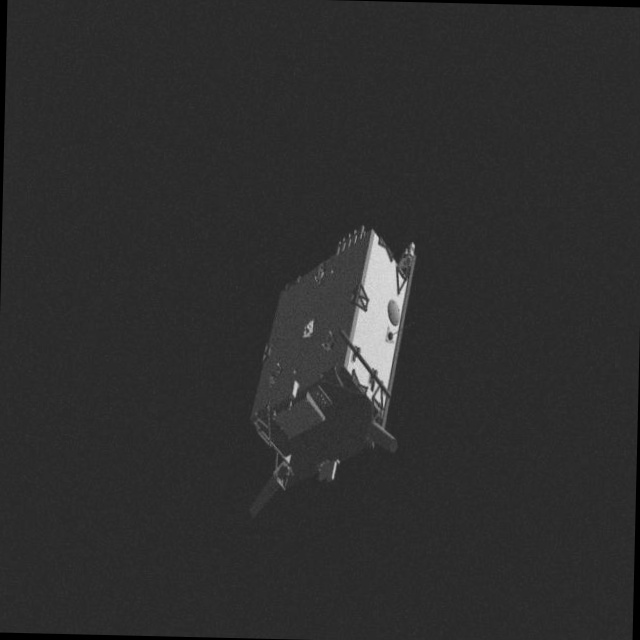satellite: (251, 217, 424, 528)
